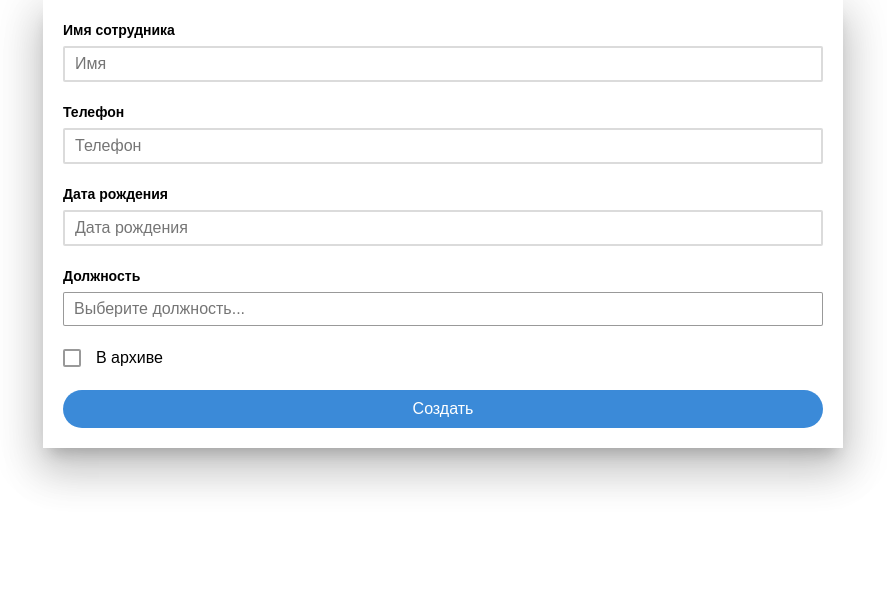
Test: createEmployeeForm › should show errors on submit
Type "имя717171" into the field with placeholder "Имя".
click(443, 64); type("имя717171")  # box [63,46,823,82]
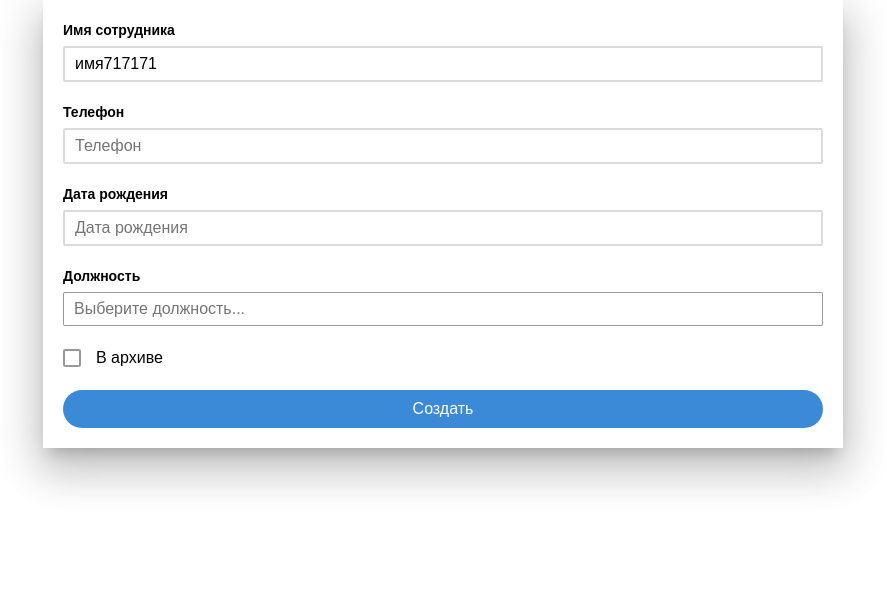
Type "12345" into the field with placeholder "Телефон".
click(443, 146); type("12345")  # box [63,128,823,164]
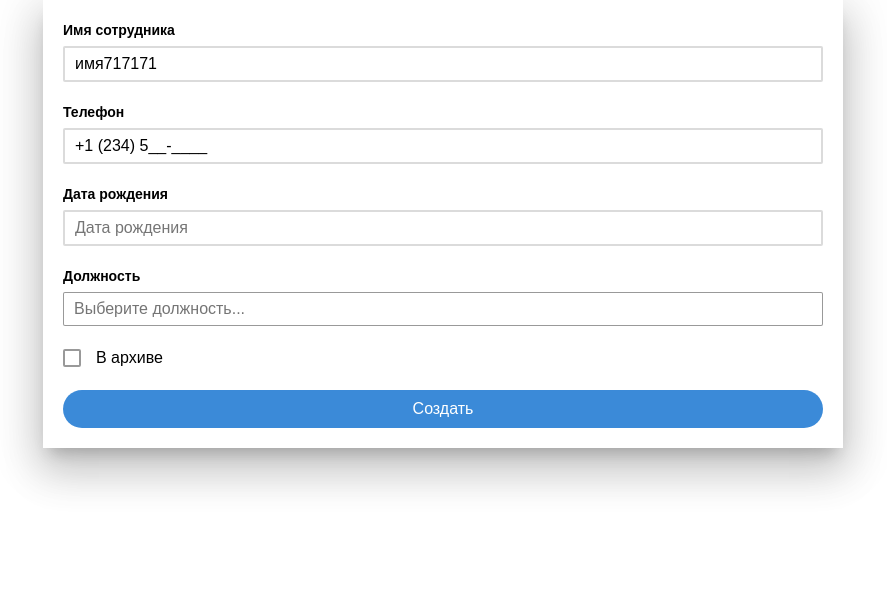
Submit the form with test id "create-form"
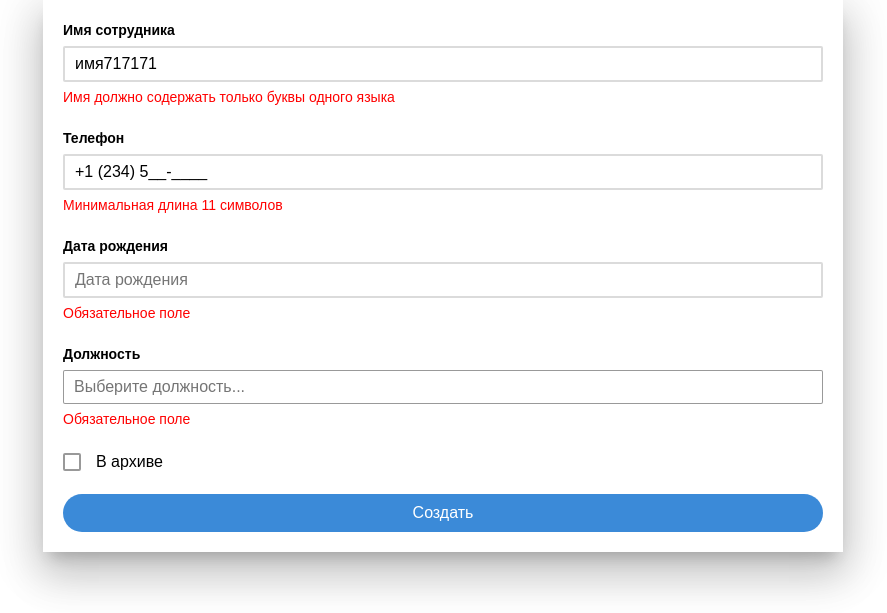
Result: the text "Имя должно содержать только буквы одного языка" is shown at [63,89,395,105]
Result: the text "Минимальная длина 11 символов" is shown at [63,197,283,213]
